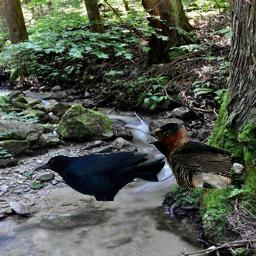Crow: (32, 151, 165, 201)
Swallow: (145, 122, 231, 190)
